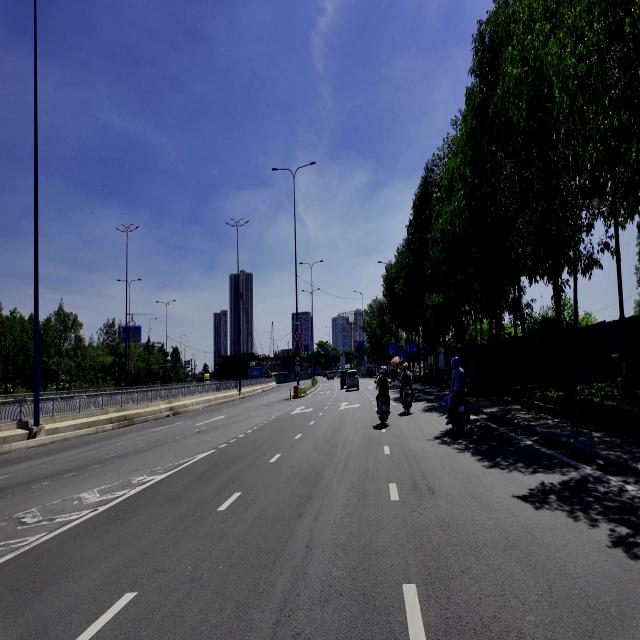car: (346, 369, 359, 391), (339, 370, 347, 389), (327, 371, 334, 380)
motorcycle: (451, 394, 470, 432), (402, 389, 413, 413), (379, 398, 388, 424)
